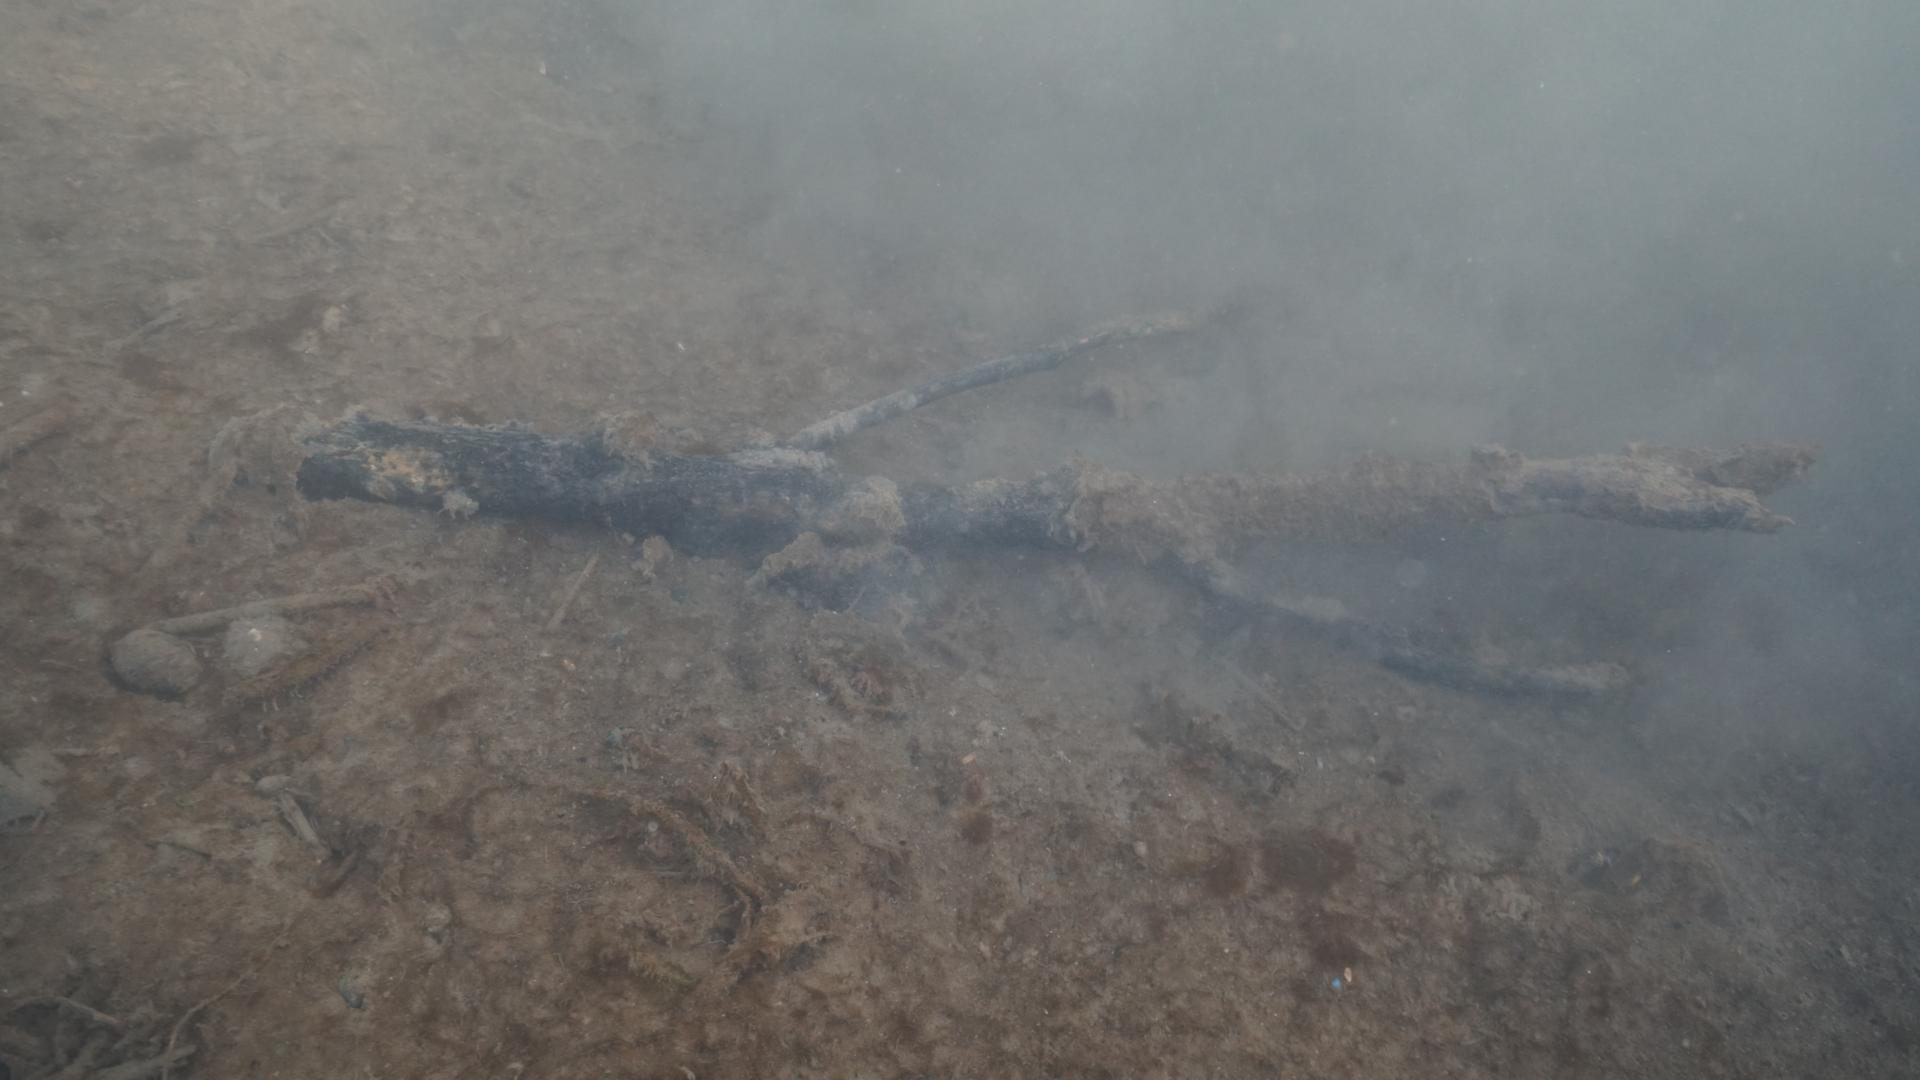wood: (289, 309, 1820, 702)
